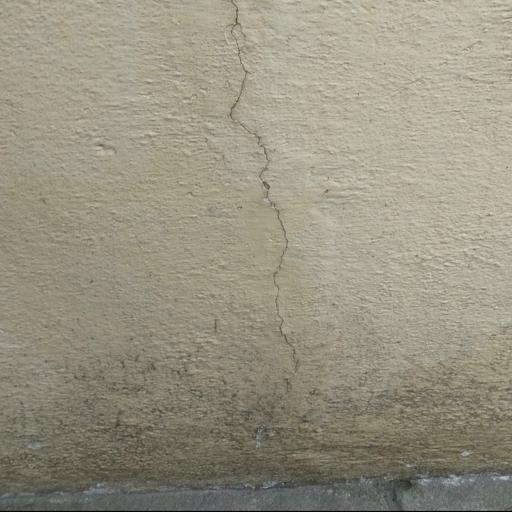minor_crack: (211, 0, 316, 472)
